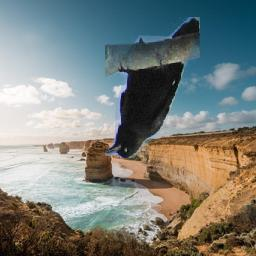Crow: (106, 18, 201, 159)
